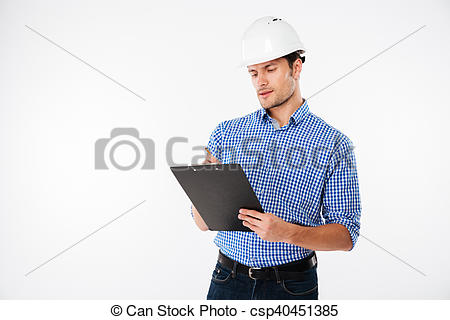casco: (232, 14, 309, 71)
